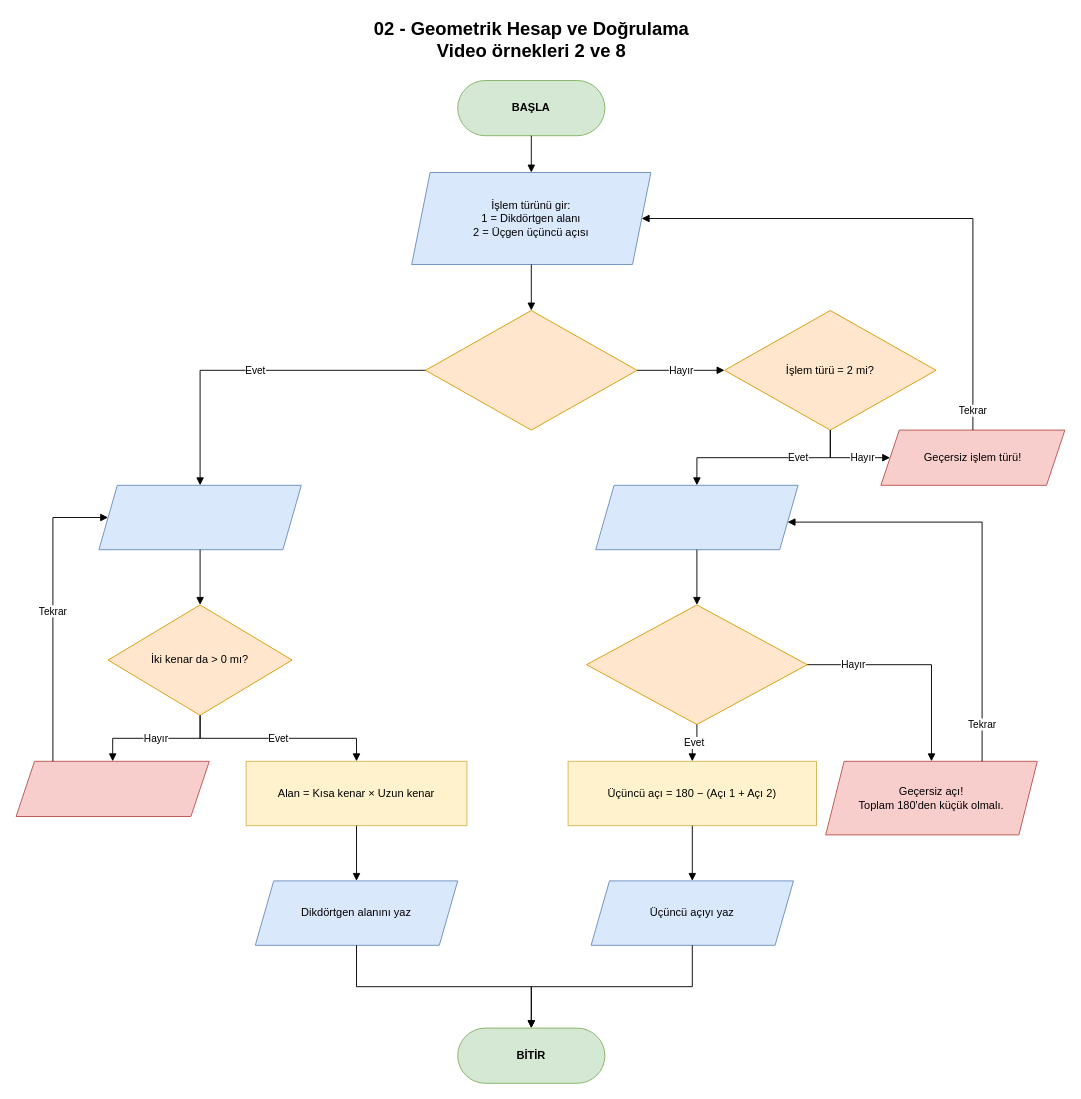
Image size: 1081x1099. Some labels were removed from this diagram. The box of each missing label's shape, as (x1, y1, x2, y2) in pixels:
Açılar > 0 ve Açı 1 + Açı 2 < 180 mi?: (586, 604, 807, 724)
Birinci ve ikinci açıyı gir: (595, 484, 798, 550)
İşlem türü = 1 mi?: (425, 310, 637, 430)
Kenarlar pozitif olmalı!: (15, 760, 209, 816)
Kısa ve uzun kenarı gir: (98, 484, 301, 550)
